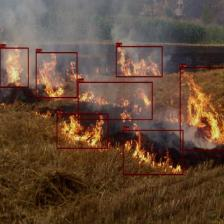fire: (179, 66, 224, 150), (77, 82, 152, 120), (123, 130, 183, 174), (36, 52, 77, 98), (56, 114, 108, 148), (116, 46, 162, 77), (0, 47, 28, 87)
